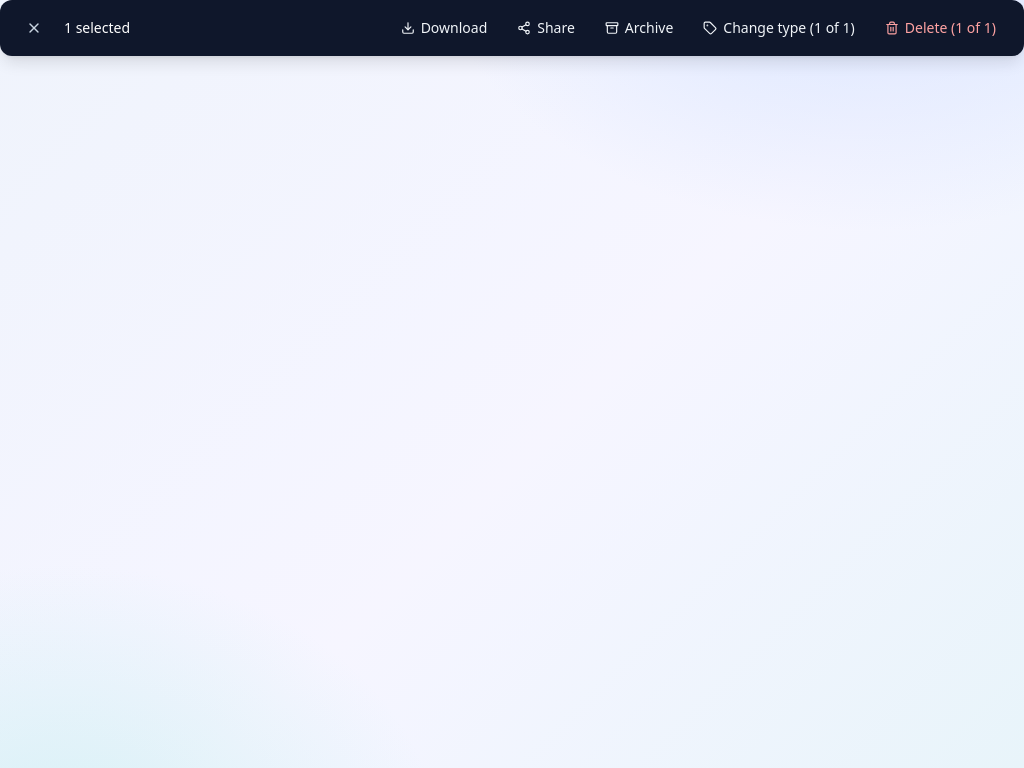
it: DocumentsBulkBar change type › lists the direct-upload kinds plus custom types as options
Click the button "Change type (1 of 1)": {"x": 779, "y": 28} [691,12,867,44]
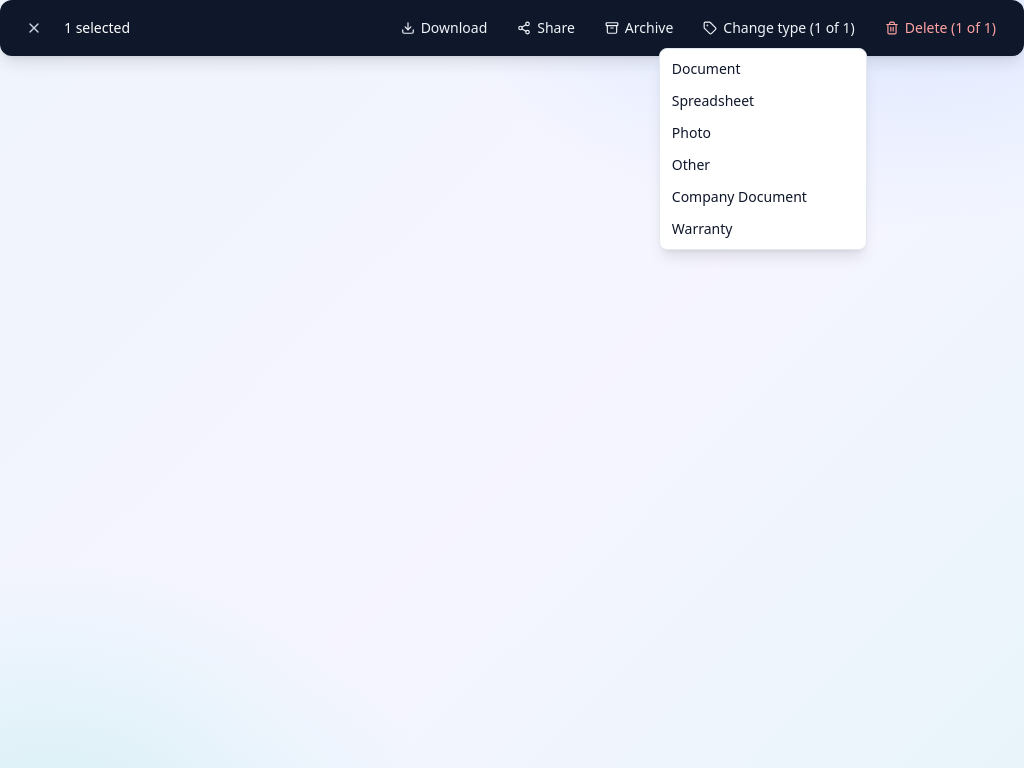
expect the menu item "Document" is shown: met, box [660,53,866,85]
expect the menu item "Spreadsheet" is shown: met, box [660,85,866,117]
expect the menu item "Photo" is shown: met, box [660,117,866,149]
